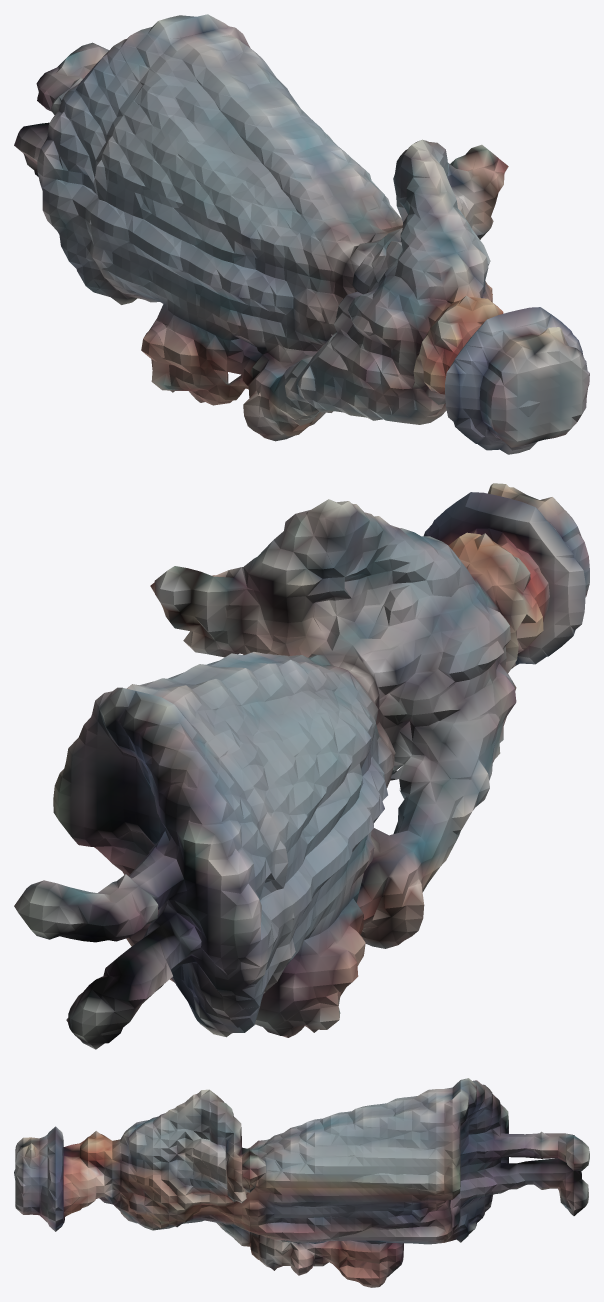
The model's file is industrial_merchant_f_0.glb.
3 renders of one model, top to bottom at view 1: azimuth 30°, elevation 25°; view 2: azimuth 150°, elevation 25°; view 3: azimuth 270°, elevation 25°, orthographic. The views are drawn at different scales.
Visible parts, largest first — view 1: world; view 2: world; view 3: world.
Part boxes in pixels (bbox=[...]): world: bbox=[14, 14, 589, 454]; world: bbox=[14, 483, 589, 1049]; world: bbox=[14, 1078, 589, 1287].
Bounding box in the file's own units: 0.3547 × 0.4018 × 0.9742.
